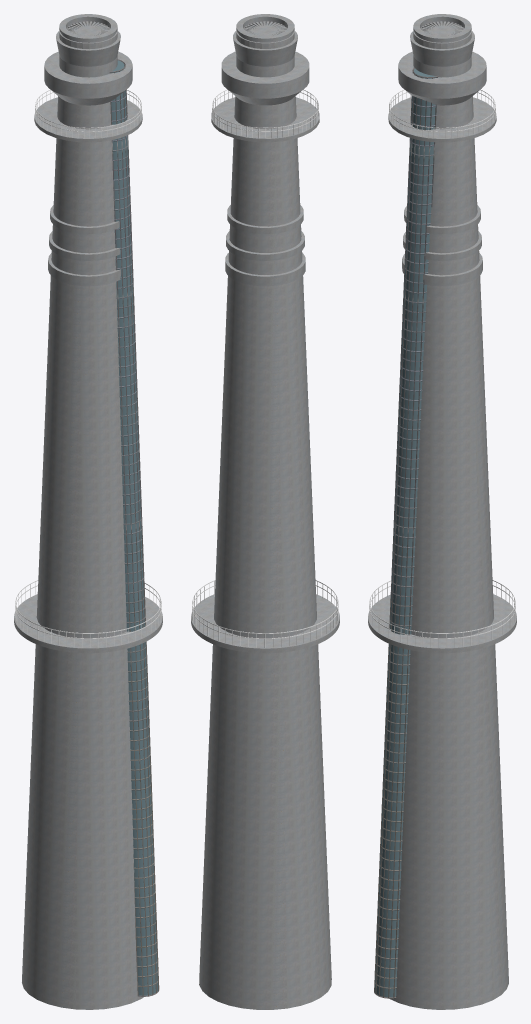
The model's file is yancong1.fbx.
The picture shows the model from 3 angles, left to right: view 1: azimuth 30°, elevation 25°; view 2: azimuth 150°, elevation 25°; view 3: azimuth 270°, elevation 25°; orthographic projection.
Parts seen in each view (by area): view 1: Obj3d66-790330-124-106, Obj3d66-790330-116-612, Obj3d66-790330-115-99, Obj3d66-790330-118-335, Obj3d66-790330-114-635, Obj3d66-790330-121-702, Obj3d66-790330-120-177, Obj3d66-790330-117-692, Obj3d66-790330-122-203, Obj3d66-790330-119-680, 对象001, Obj3d66-790330-123-547 (+1 smaller); view 2: Obj3d66-790330-124-106, Obj3d66-790330-118-335, Obj3d66-790330-114-635, Obj3d66-790330-121-702, Obj3d66-790330-120-177, Obj3d66-790330-117-692, Obj3d66-790330-122-203, Obj3d66-790330-119-680, 对象001, Obj3d66-790330-123-547, shapes3d66-790330-42-170; view 3: Obj3d66-790330-124-106, Obj3d66-790330-116-612, Obj3d66-790330-115-99, Obj3d66-790330-118-335, Obj3d66-790330-114-635, Obj3d66-790330-121-702, Obj3d66-790330-120-177, Obj3d66-790330-119-680, Obj3d66-790330-117-692, Obj3d66-790330-122-203, 对象001, Obj3d66-790330-123-547 (+1 smaller).
Boxes of the visible parts, box(x1,y1,x2,y2) form: Obj3d66-790330-124-106: box(22, 51, 143, 1009); Obj3d66-790330-116-612: box(110, 60, 158, 995); Obj3d66-790330-115-99: box(109, 59, 159, 996); Obj3d66-790330-118-335: box(14, 594, 162, 653); Obj3d66-790330-114-635: box(56, 14, 120, 66); Obj3d66-790330-121-702: box(34, 97, 142, 142); Obj3d66-790330-120-177: box(48, 253, 120, 286); Obj3d66-790330-117-692: box(49, 231, 120, 260); Obj3d66-790330-122-203: box(50, 205, 119, 234); Obj3d66-790330-119-680: box(15, 581, 161, 647); 对象001: box(59, 21, 117, 49); Obj3d66-790330-123-547: box(35, 90, 141, 138); Obj3d66-790330-124-106: box(199, 51, 331, 1009); Obj3d66-790330-118-335: box(191, 594, 339, 653); Obj3d66-790330-114-635: box(233, 14, 297, 66); Obj3d66-790330-121-702: box(211, 97, 319, 142); Obj3d66-790330-120-177: box(225, 253, 305, 286); Obj3d66-790330-117-692: box(226, 231, 304, 260); Obj3d66-790330-122-203: box(227, 205, 303, 233); Obj3d66-790330-119-680: box(192, 581, 338, 647); 对象001: box(236, 21, 294, 48); Obj3d66-790330-123-547: box(212, 90, 318, 138); shapes3d66-790330-42-170: box(212, 89, 318, 131); Obj3d66-790330-124-106: box(389, 51, 508, 1009); Obj3d66-790330-116-612: box(375, 68, 436, 997); Obj3d66-790330-115-99: box(374, 67, 438, 998); Obj3d66-790330-118-335: box(368, 594, 516, 653); Obj3d66-790330-114-635: box(410, 14, 474, 66); Obj3d66-790330-121-702: box(388, 97, 496, 142); Obj3d66-790330-120-177: box(402, 253, 482, 286); Obj3d66-790330-119-680: box(369, 582, 515, 647); Obj3d66-790330-117-692: box(403, 231, 481, 260); Obj3d66-790330-122-203: box(404, 205, 480, 234); 对象001: box(413, 21, 471, 48); Obj3d66-790330-123-547: box(389, 90, 495, 138).
Size of the model in its own units: 9.18 by 65.04 by 9.18.
5 materials, 3 textured.
